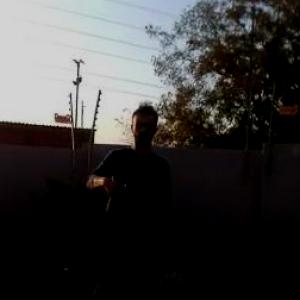follow: (72, 92, 178, 298)
